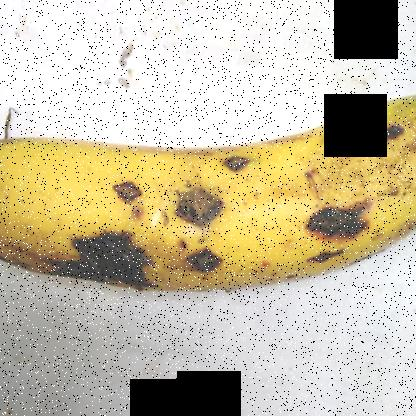rotten: (50, 217, 154, 303), (287, 185, 383, 272), (364, 106, 415, 162), (213, 140, 266, 192), (175, 235, 230, 284), (172, 182, 230, 228), (107, 161, 154, 211)
